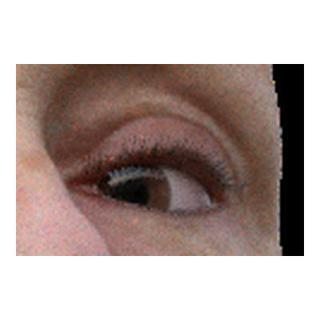pupil: (111, 176, 148, 214)
